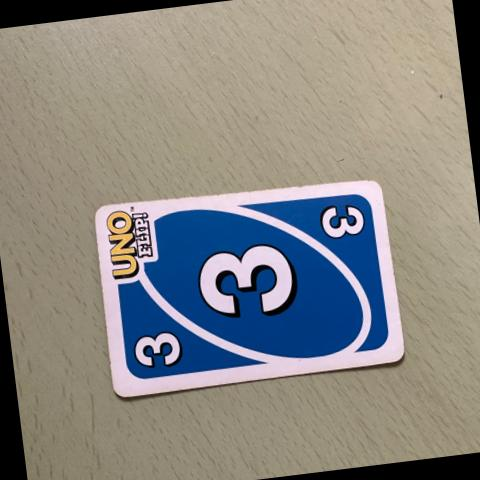lblue-3: (115, 314, 204, 388)
